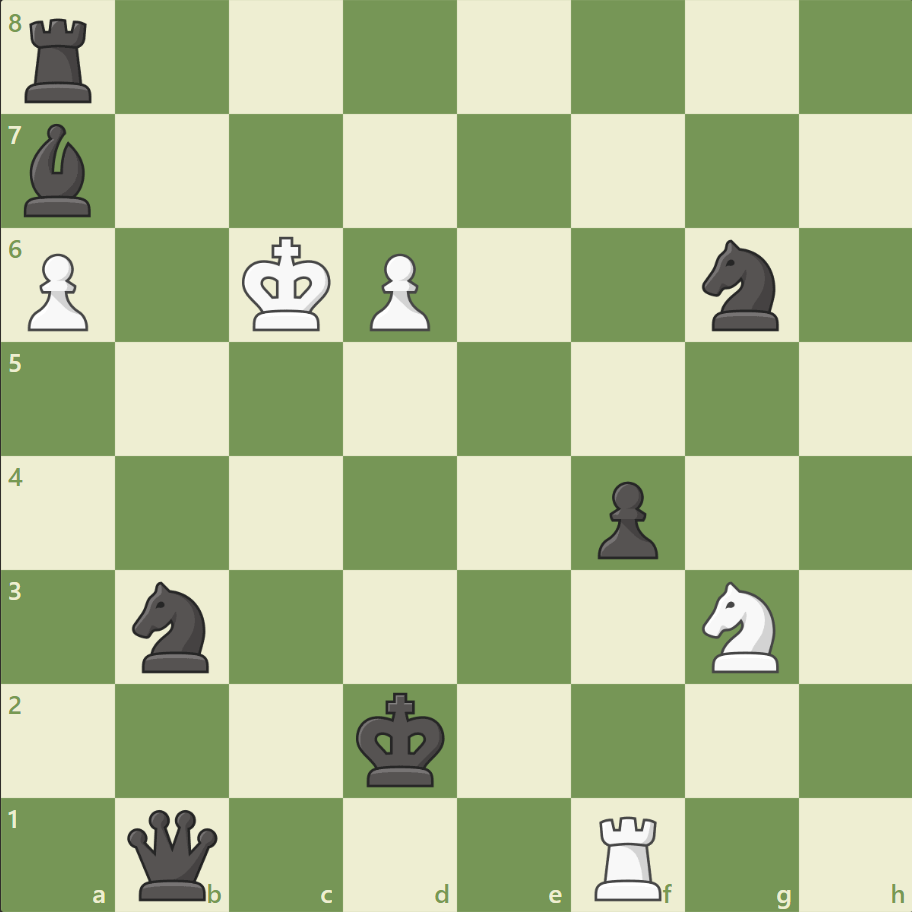K: (238, 231, 338, 339)
N: (692, 575, 789, 677)
P: (20, 246, 95, 337), (361, 246, 435, 337)
R: (587, 806, 670, 904)
b: (17, 120, 101, 222)
k: (351, 685, 451, 793)
n: (124, 575, 222, 677), (692, 234, 789, 337)
p: (588, 473, 662, 564)
q: (124, 804, 223, 903)
r: (19, 12, 102, 109)
